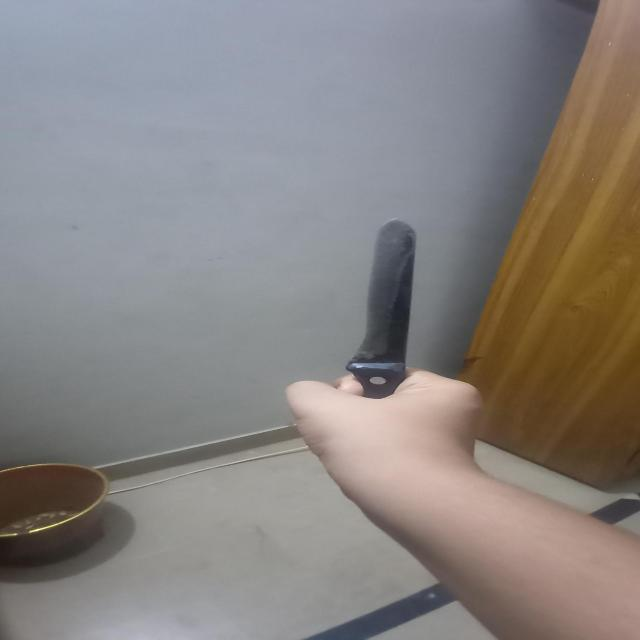Knife: (342, 217, 420, 402)
Person: (287, 372, 640, 640)
